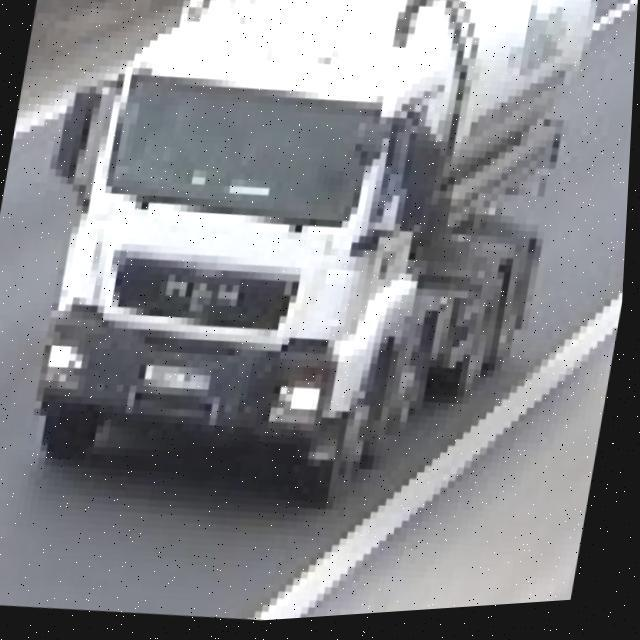truck: (6, 0, 588, 538)
